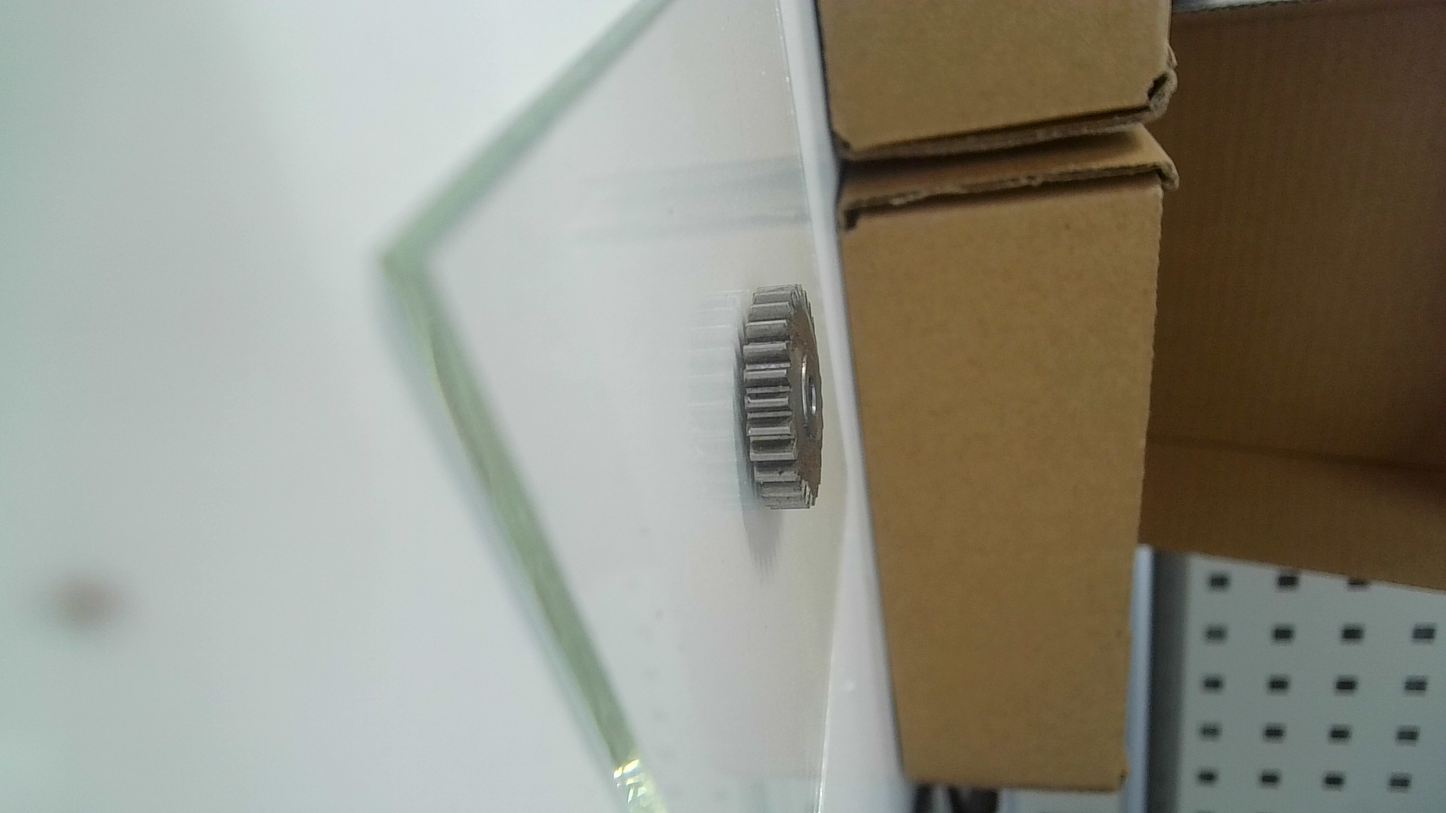gear: (734, 277, 826, 516)
